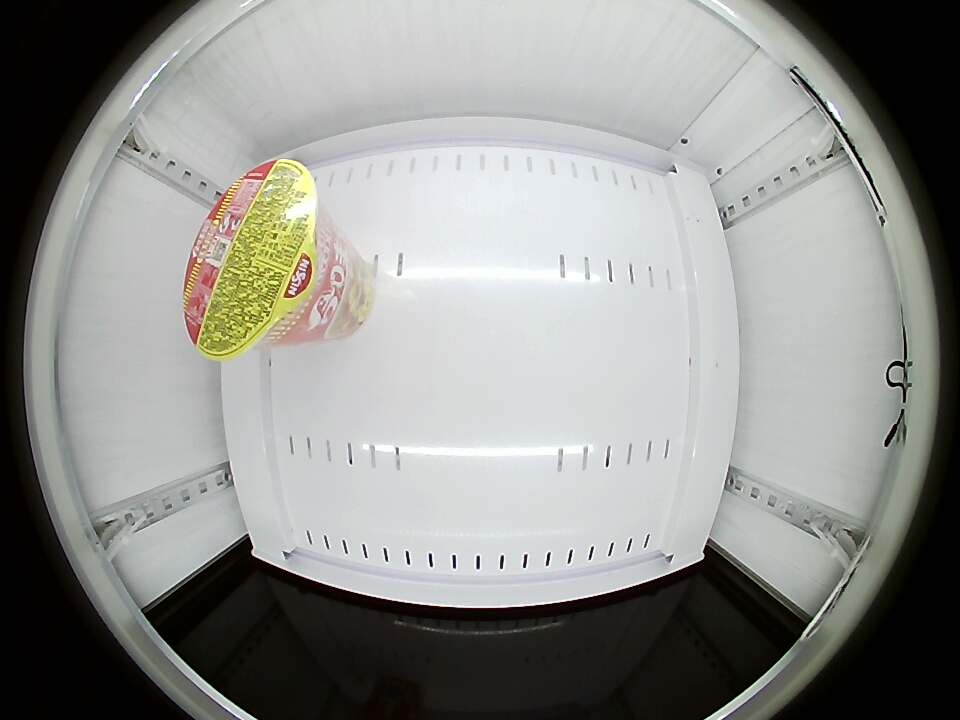heweidao3: (184, 158, 327, 360)
